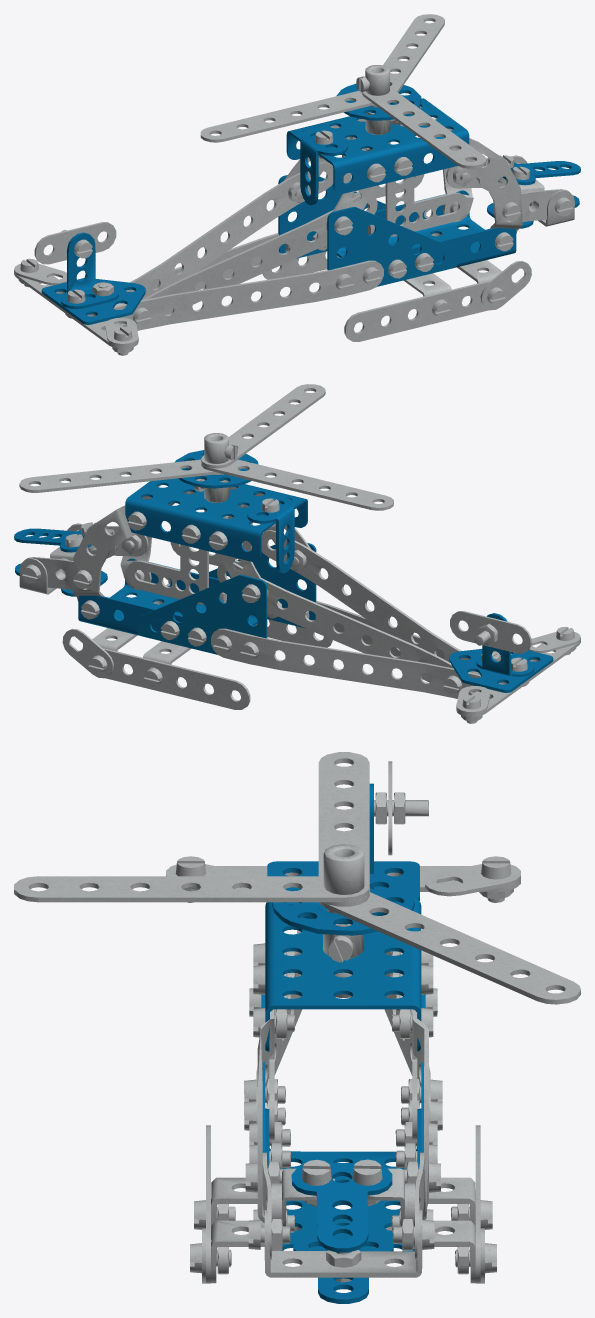
The model's file is PolicejniVrtulnik_noanim.glb.
3 views of the same model, one above another, from view 1: azimuth 30°, elevation 25°; view 2: azimuth 150°, elevation 25°; view 3: azimuth 270°, elevation 25° (orthographic). The views are drawn at different scales.
Visible parts, largest first — view 1: Policejni_Vrtulnik, Policejni_Vrtulnik_Vrtule; view 2: Policejni_Vrtulnik, Policejni_Vrtulnik_Vrtule; view 3: Policejni_Vrtulnik, Policejni_Vrtulnik_Vrtule.
Boxes of the visible parts, <box> form: Policejni_Vrtulnik: <box>14,98,580,355</box>; Policejni_Vrtulnik_Vrtule: <box>200,14,486,168</box>; Policejni_Vrtulnik: <box>14,473,580,723</box>; Policejni_Vrtulnik_Vrtule: <box>19,384,393,510</box>; Policejni_Vrtulnik: <box>166,761,520,1303</box>; Policejni_Vrtulnik_Vrtule: <box>14,752,580,1004</box>.
Bounding box in the file's own units: 0.196 × 0.0802 × 0.1114.
2 materials, 2 textured.
